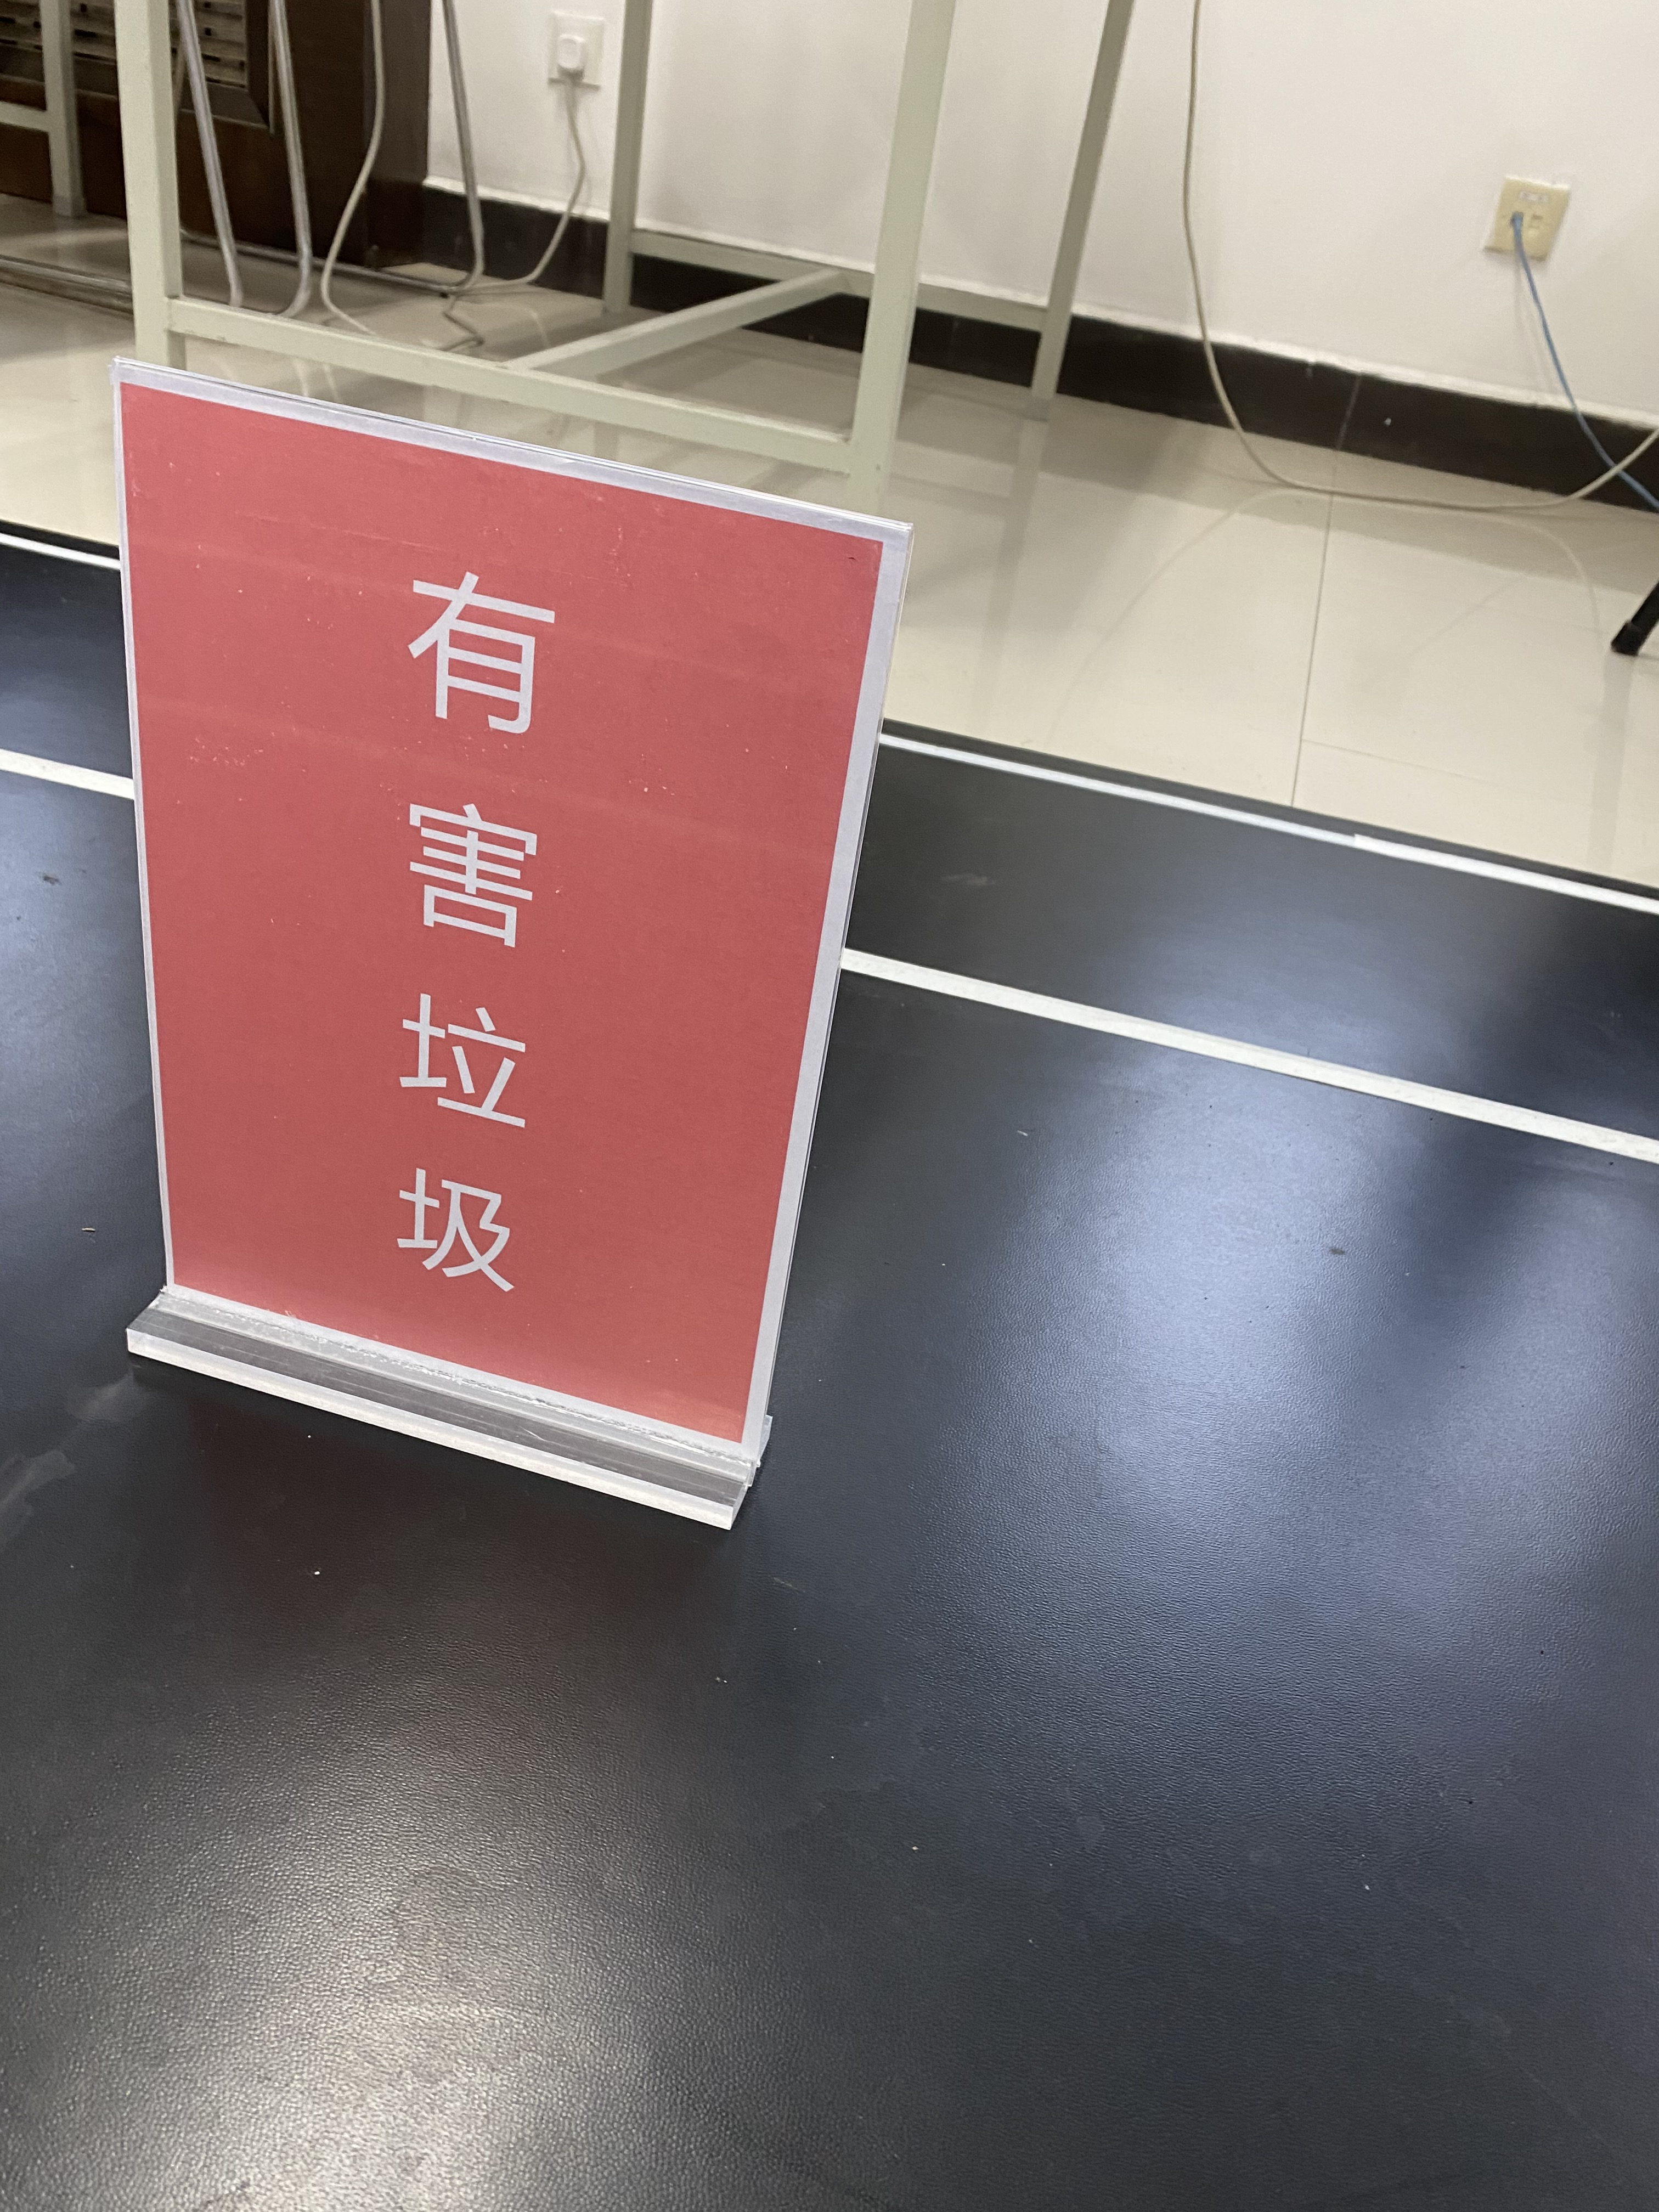red: (221, 517, 755, 1318)
